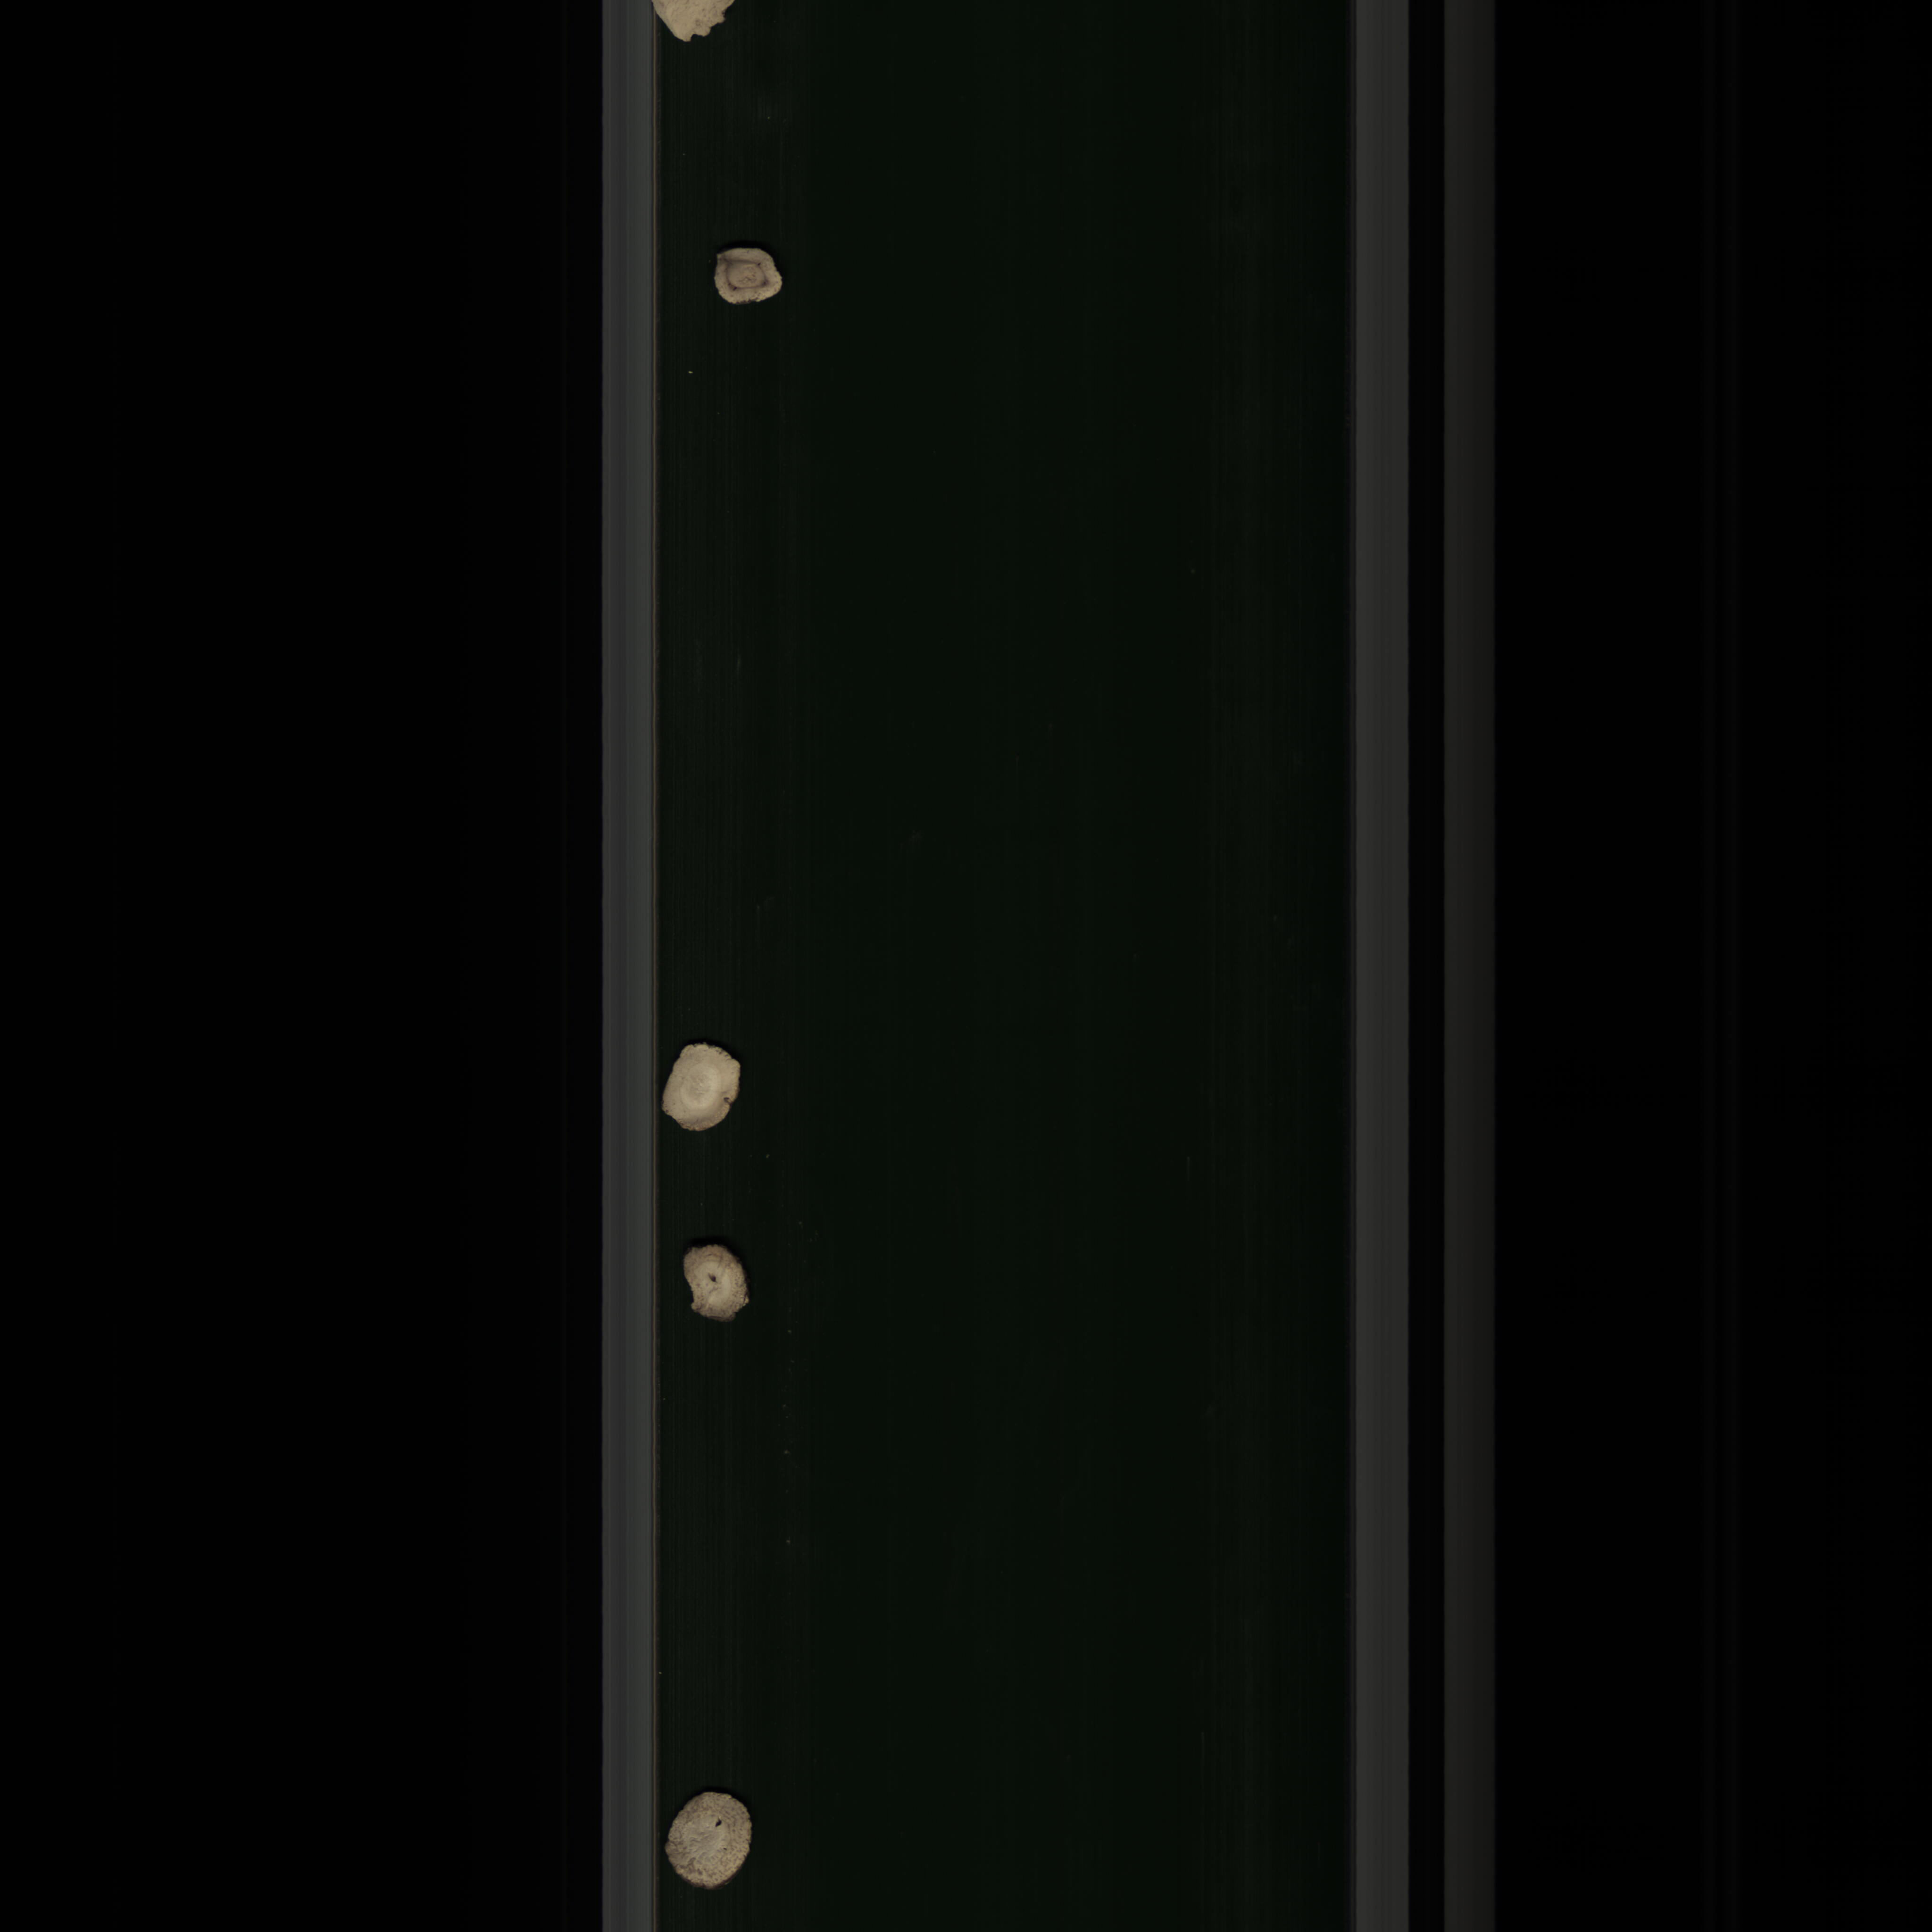hole: (662, 1780, 768, 1898)
moldy: (674, 1240, 759, 1327), (706, 234, 793, 313)
